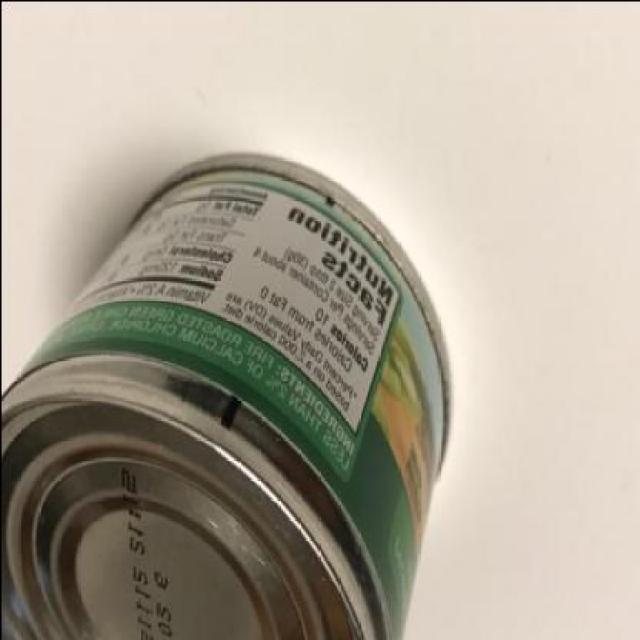METAL: (1, 152, 452, 638)
